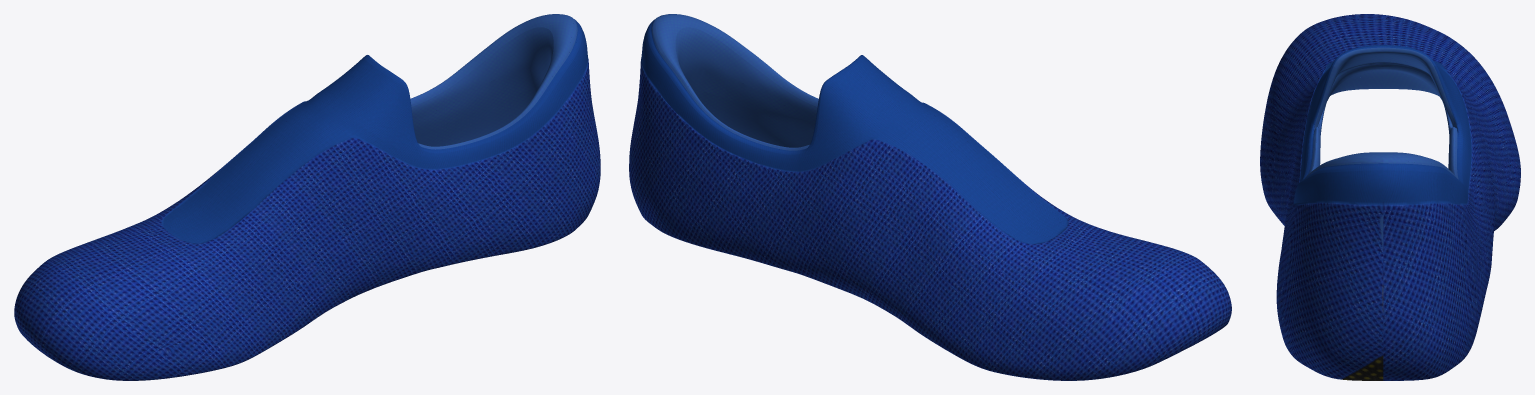
File: onlytop.glb
3 renders of one model, left to right at view 1: azimuth 30°, elevation 25°; view 2: azimuth 150°, elevation 25°; view 3: azimuth 270°, elevation 25°, orthographic. The views are drawn at different scales.
Visible parts, largest first — view 1: pasted__polySurface1; view 2: pasted__polySurface1; view 3: pasted__polySurface1.
Part boxes in pixels (x1,y1,x2,y2): pasted__polySurface1: (14, 14, 600, 380); pasted__polySurface1: (629, 14, 1231, 380); pasted__polySurface1: (1260, 14, 1520, 380).
Size of the model in its own units: 0.3289 by 0.1218 by 0.1066.
Materials: 1 (1 with a texture image).
